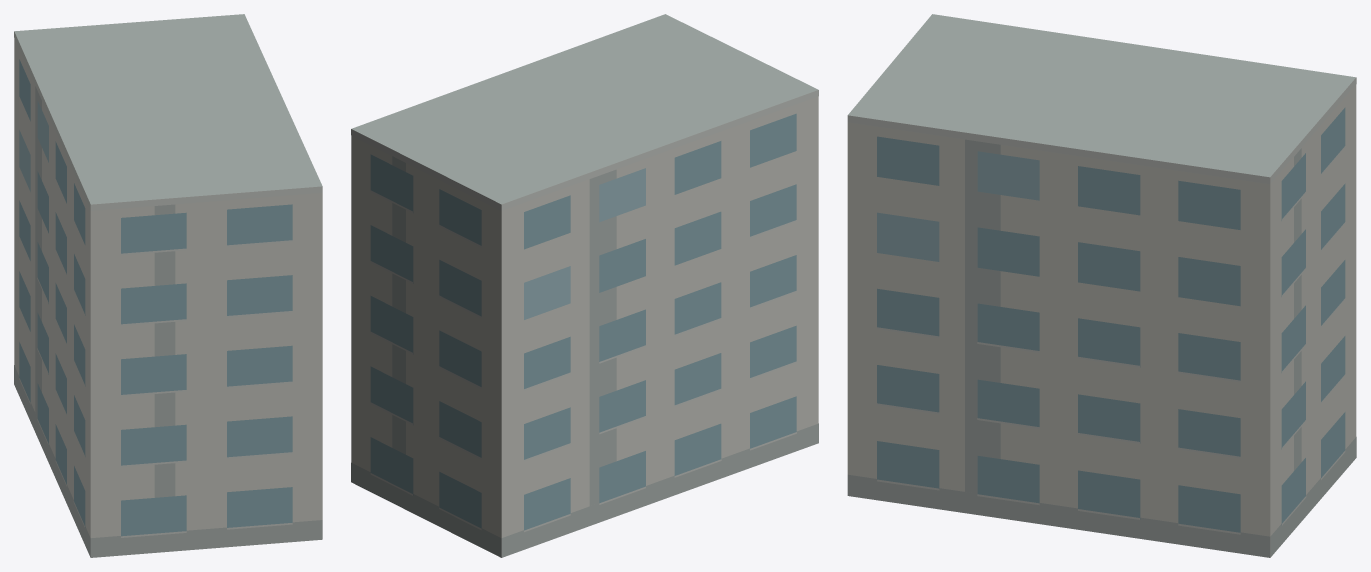
The model's file is survey-upis-32884957.glb.
3 views of the same model, side by side, from view 1: azimuth 30°, elevation 25°; view 2: azimuth 150°, elevation 25°; view 3: azimuth 270°, elevation 25° (orthographic). The views are drawn at different scales.
Parts seen in each view (by area): view 1: survey-upis-32884957.tmp; view 2: survey-upis-32884957.tmp; view 3: survey-upis-32884957.tmp.
Boxes of the visible parts, x1,y1,x2,y2 form: survey-upis-32884957.tmp: (14,14,322,557); survey-upis-32884957.tmp: (351,14,818,557); survey-upis-32884957.tmp: (847,14,1356,557).
Bounding box in the file's own units: 12.2 × 13.25 × 16.06.
